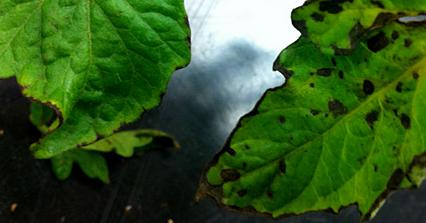Tomato leaf bacterial spot: (194, 0, 426, 216), (0, 0, 203, 191)
